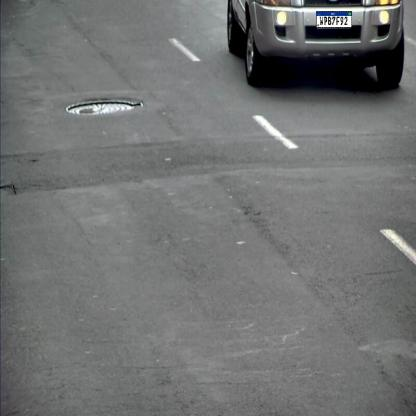PlacaM: (316, 11, 352, 28)
